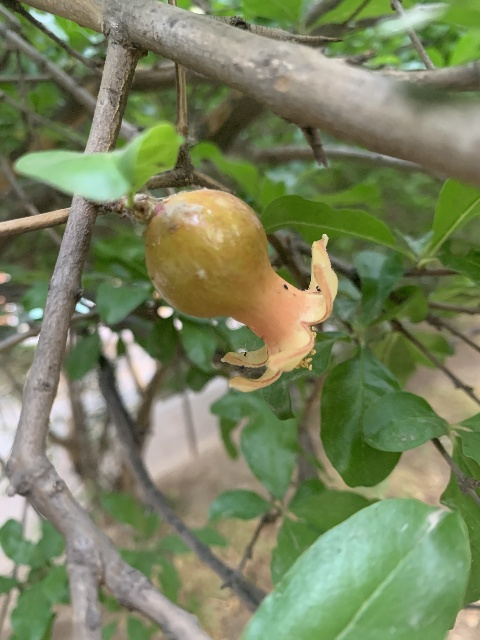early-fruit: (143, 189, 337, 393)
